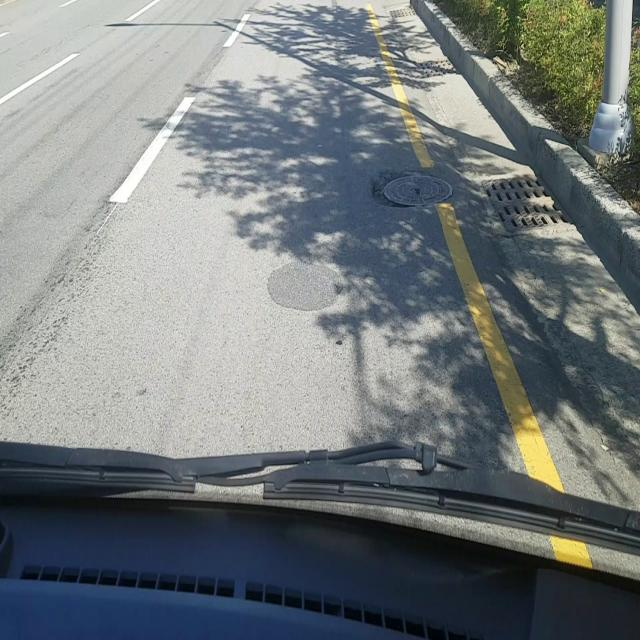Pothole: (370, 169, 456, 211)
